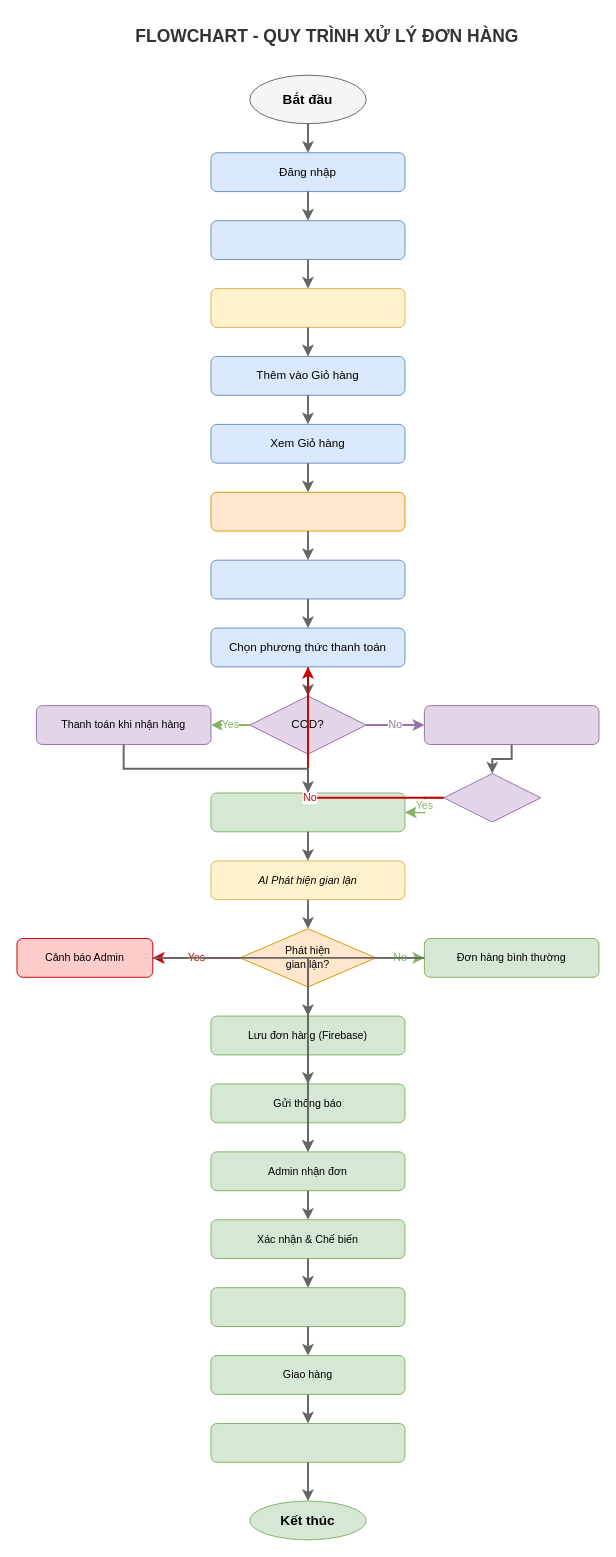
Some shapes in this 616 by 1557 pixel diagram are drawn without their labels. Here are the shapes that lost their labels. From the top down, the box of each, then its label:
(210, 220, 405, 259): Xem Menu & Chọn món
(210, 288, 405, 327): AI Gợi ý món ăn
(210, 491, 405, 531): Chọn Voucher
(210, 559, 405, 599): Nhập thông tin giao hàng
(423, 705, 599, 744): Quét QR thanh toán
(210, 792, 405, 832): Xác nhận Đặt hàng
(443, 773, 541, 822): Thành công?
(210, 1287, 405, 1326): Cập nhật trạng thái Shipping
(210, 1423, 405, 1462): Xác nhận đã nhận hàng
